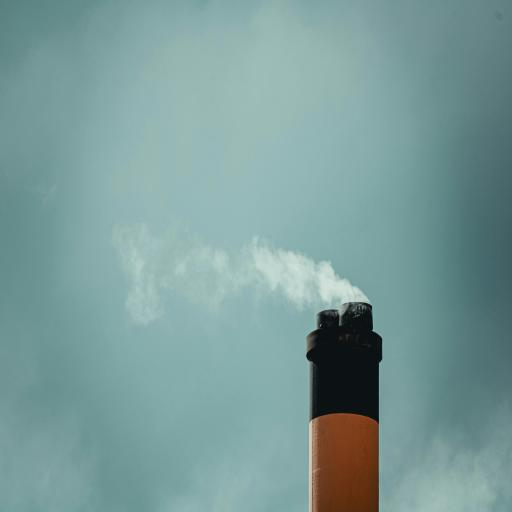smoke: (110, 220, 368, 300)
